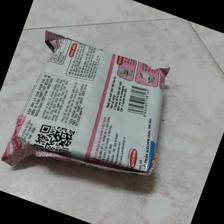Haohao: (4, 29, 174, 193)
